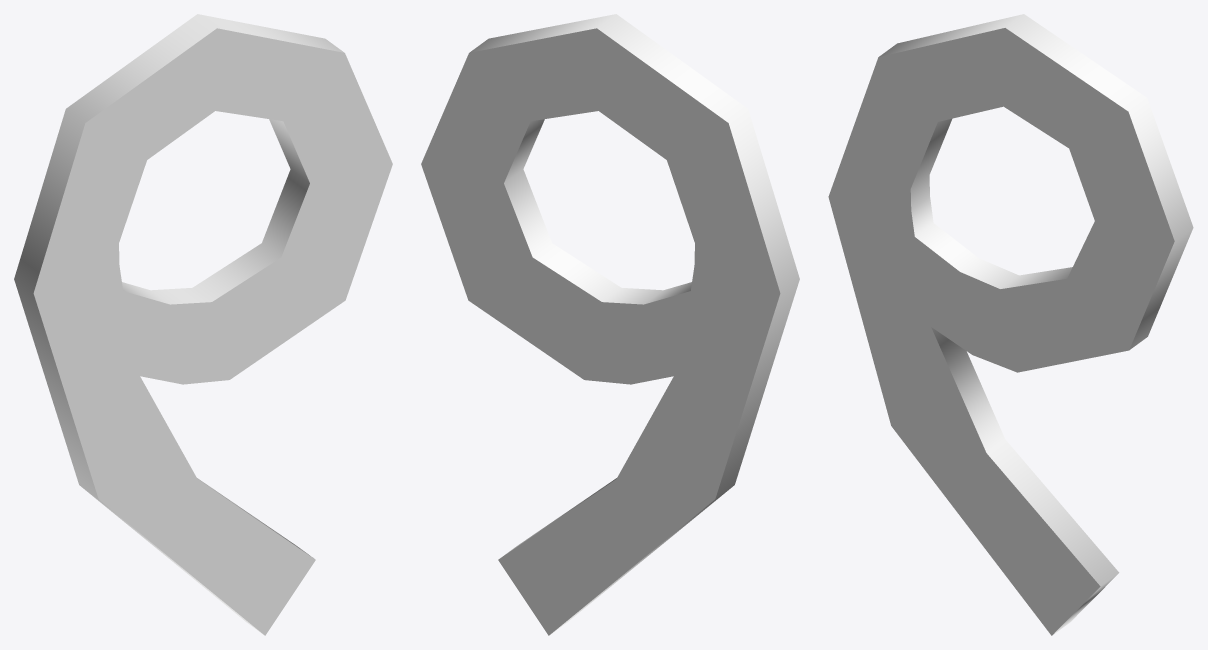
Rendered from Nine.obj.
3 views of the same model, side by side, from view 1: azimuth 30°, elevation 25°; view 2: azimuth 150°, elevation 25°; view 3: azimuth 330°, elevation 25° (orthographic). The views are drawn at different scales.
Visible parts, largest first — view 1: テキスト; view 2: テキスト; view 3: テキスト.
Boxes of the visible parts, x1=… form: テキスト: x1=14, y1=14, x2=392, y2=635; テキスト: x1=421, y1=14, x2=799, y2=635; テキスト: x1=828, y1=14, x2=1193, y2=635.
Bounding box in the file's own units: 0.425 × 0.7 × 0.04.
1 material, 1 textured.
